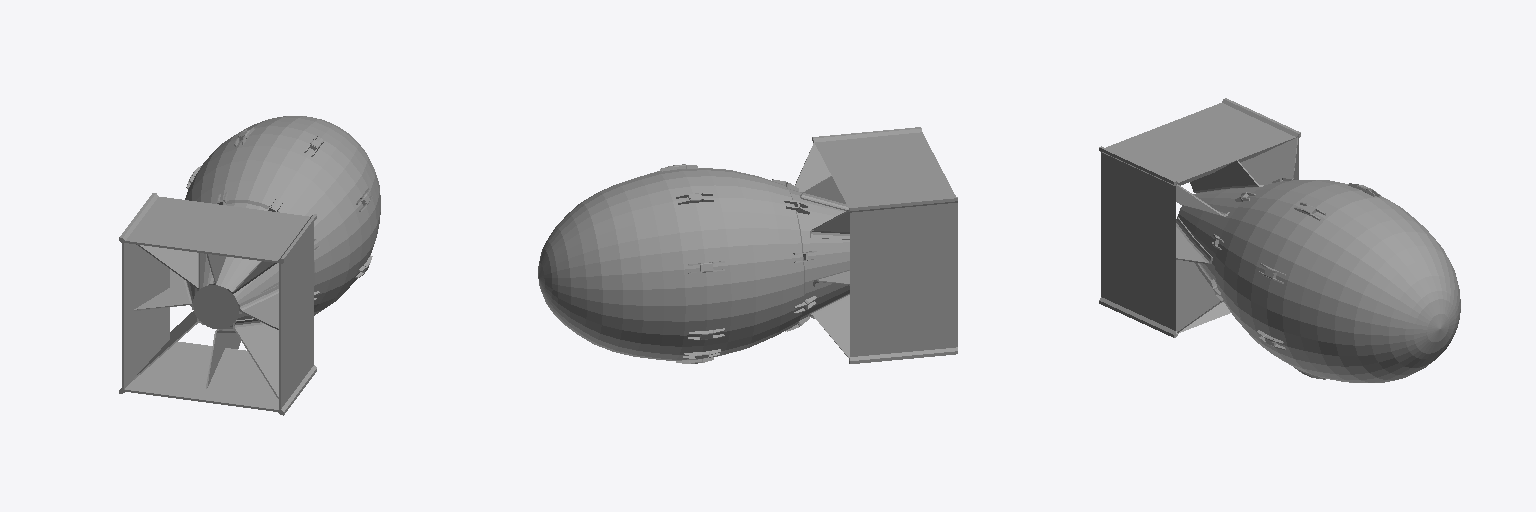
The model's file is zom_nuke.obj.
The picture shows the model from 3 angles: view 1: azimuth 30°, elevation 25°; view 2: azimuth 150°, elevation 25°; view 3: azimuth 270°, elevation 25°; orthographic projection.
Visible parts, largest first — view 1: g_powerup; view 2: g_powerup; view 3: g_powerup.
Boxes of the visible parts, x1=… form: g_powerup: x1=119, y1=116, x2=380, y2=415; g_powerup: x1=538, y1=127, x2=957, y2=363; g_powerup: x1=1099, y1=98, x2=1460, y2=382.
Size of the model in its own units: 91.1 by 46.51 by 87.31.